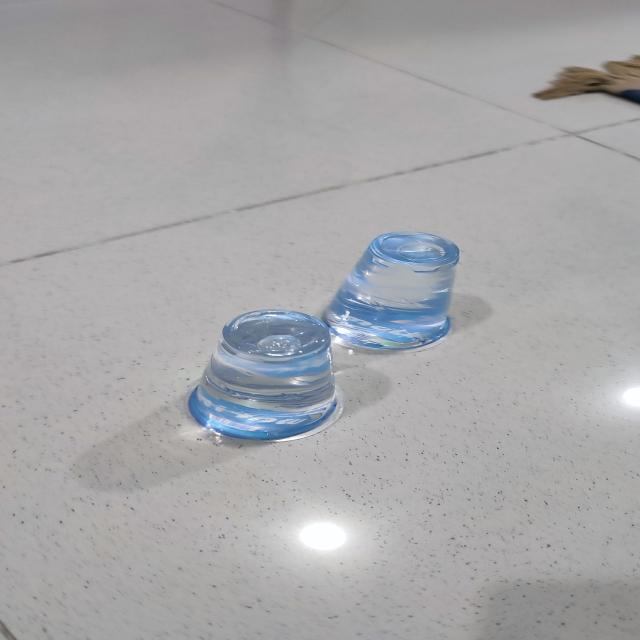air gelas: (181, 306, 345, 455), (326, 227, 459, 361)
